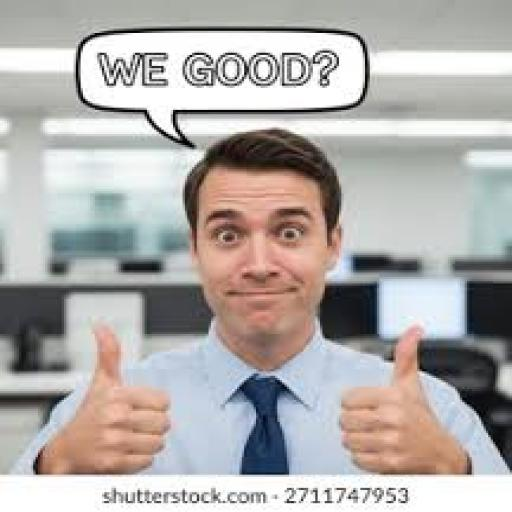Thumbs_Up: (331, 316, 475, 472), (50, 301, 175, 477)
